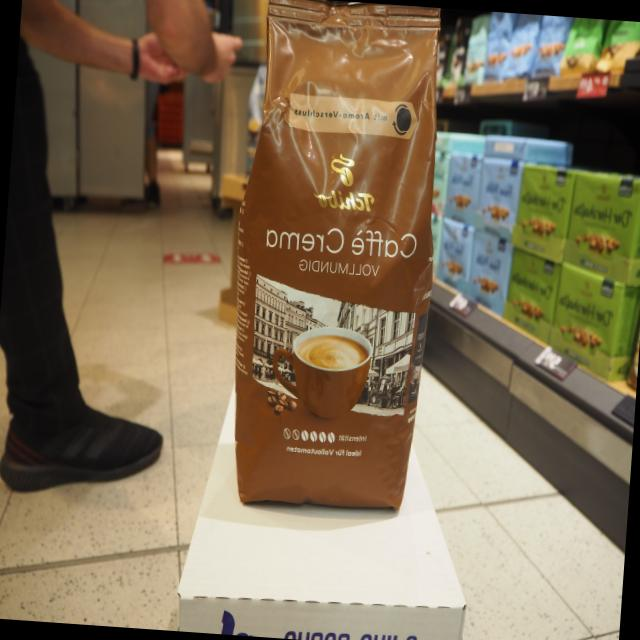CC Vollmundig 36 Pads: (210, 0, 455, 521)
